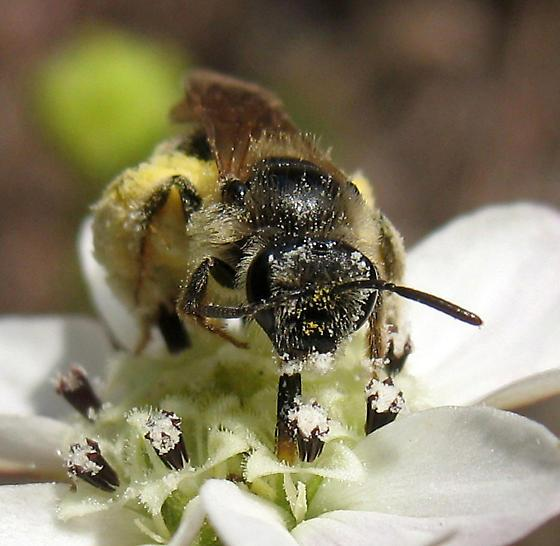Lasioglossum: (87, 62, 492, 457)
